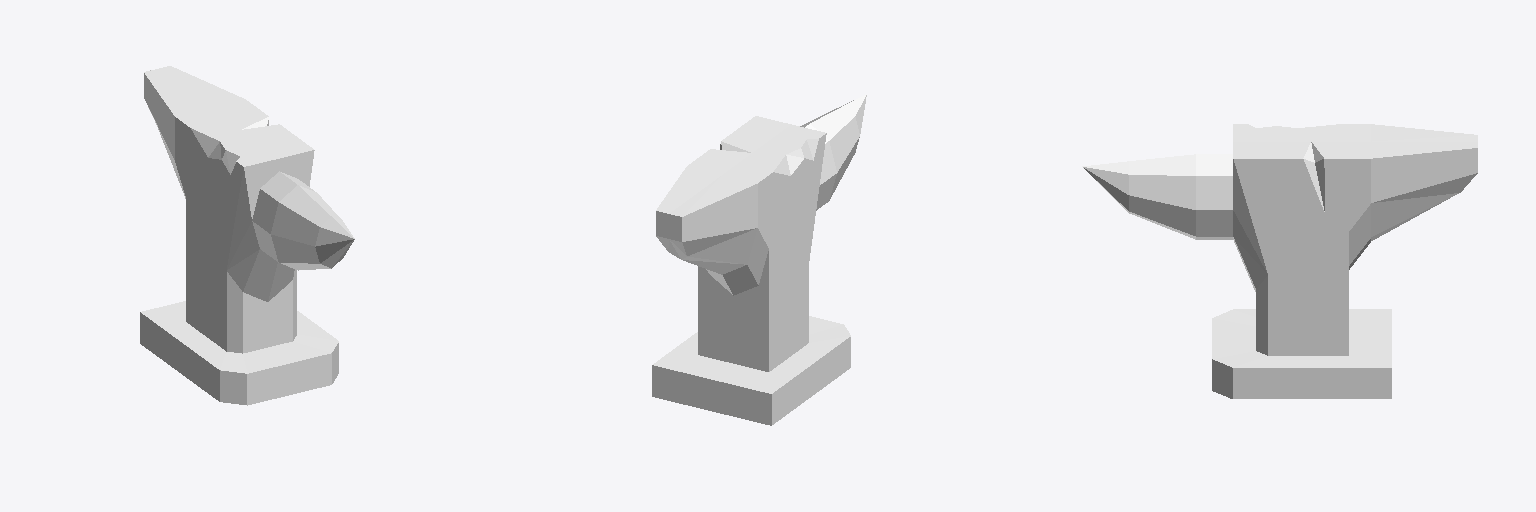
The model's file is Wall.obj.
3 views of the same model, side by side, from view 1: azimuth 30°, elevation 25°; view 2: azimuth 150°, elevation 25°; view 3: azimuth 270°, elevation 25° (orthographic).
Visible parts, largest first — view 1: SM_Prop_Anvil_01_Mesh; view 2: SM_Prop_Anvil_01_Mesh; view 3: SM_Prop_Anvil_01_Mesh.
Part boxes in pixels (bbox=[...]): SM_Prop_Anvil_01_Mesh: bbox=[140, 66, 354, 405]; SM_Prop_Anvil_01_Mesh: bbox=[652, 94, 866, 425]; SM_Prop_Anvil_01_Mesh: bbox=[1082, 124, 1477, 398].
Bounding box in the file's own units: 1.01 × 1.84 × 2.89.